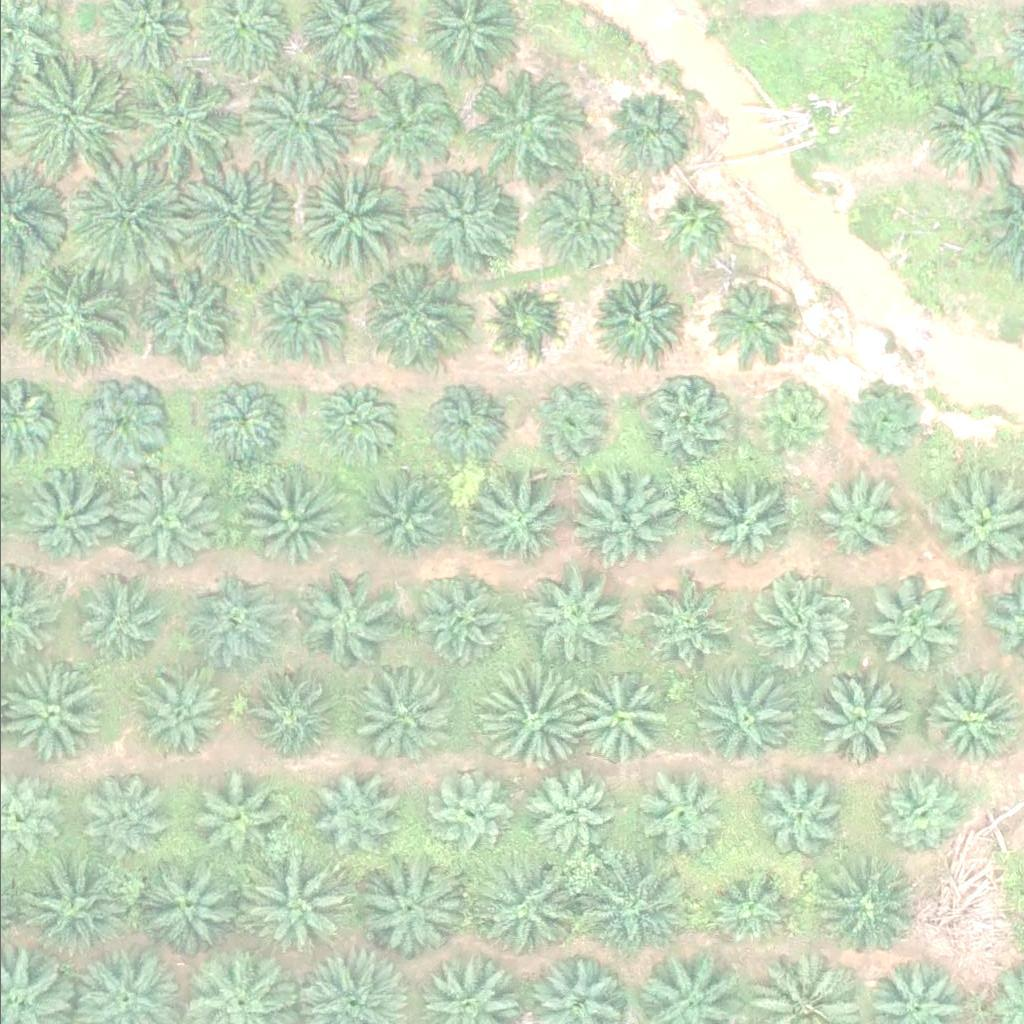Kelapa_Sawit: (231, 853, 344, 966), (473, 851, 586, 964), (573, 852, 686, 965), (69, 165, 182, 278), (180, 165, 293, 278), (298, 164, 411, 277), (413, 165, 526, 278), (238, 62, 351, 175), (9, 64, 122, 177), (16, 851, 130, 963), (473, 662, 587, 774), (107, 466, 221, 578), (354, 261, 467, 373), (4, 263, 117, 375), (124, 69, 237, 181), (137, 850, 238, 950), (354, 861, 455, 961), (129, 660, 230, 760), (562, 673, 663, 773), (514, 565, 615, 665), (404, 567, 505, 667), (60, 572, 161, 672), (468, 472, 569, 572), (68, 372, 169, 472), (128, 264, 229, 364), (468, 66, 569, 166), (356, 72, 457, 172), (748, 573, 849, 673), (807, 465, 908, 565), (352, 661, 452, 761), (295, 570, 395, 670), (171, 570, 271, 670), (688, 471, 788, 571), (572, 474, 672, 574), (235, 475, 335, 575), (14, 468, 114, 568), (190, 373, 290, 473), (534, 173, 634, 273), (811, 855, 911, 955), (922, 669, 1022, 769), (809, 669, 909, 769), (694, 668, 794, 768), (864, 577, 964, 677), (631, 764, 719, 852), (519, 768, 607, 856), (193, 773, 281, 861), (73, 778, 161, 866), (248, 666, 336, 754), (630, 587, 718, 675), (364, 474, 452, 562), (743, 375, 831, 463), (525, 379, 613, 467), (413, 380, 501, 468), (308, 380, 396, 468), (605, 88, 693, 176), (710, 864, 798, 952), (422, 770, 510, 857), (303, 771, 391, 858), (642, 377, 730, 464), (701, 279, 789, 366), (596, 275, 684, 362), (478, 275, 566, 362), (257, 272, 345, 359), (756, 771, 844, 858), (879, 768, 967, 855), (842, 377, 930, 464), (889, 1, 977, 88), (651, 191, 727, 266)
